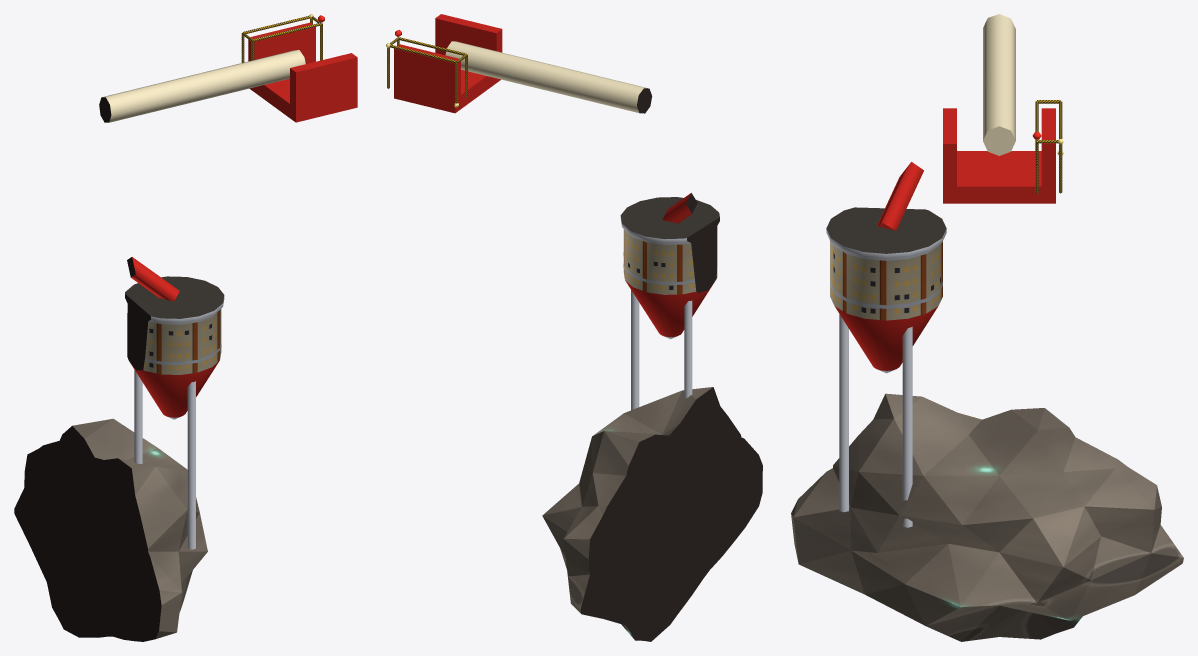
The model's file is mining_facility_build3_debris2.obj.
3 views of the same model, side by side, from view 1: azimuth 30°, elevation 25°; view 2: azimuth 150°, elevation 25°; view 3: azimuth 270°, elevation 25° (orthographic). The views are drawn at different scales.
Visible parts, largest first — view 1: rock, hopper, dock_arm, cradle_side, leg, cradle, conveyor, girder; view 2: rock, hopper, dock_arm, cradle_side, leg, cradle, girder, conveyor; view 3: rock, hopper, cradle, dock_arm, leg, cradle_side, conveyor, girder.
Part boxes in pixels (left/top/right/bottom): rock: left=14, top=418, right=207, bottom=641; hopper: left=125, top=276, right=224, bottom=419; dock_arm: left=99, top=50, right=305, bottom=122; cradle_side: left=248, top=22, right=357, bottom=108; leg: left=134, top=370, right=195, bottom=549; cradle: left=249, top=78, right=357, bottom=122; conveyor: left=127, top=257, right=179, bottom=301; girder: left=241, top=15, right=322, bottom=62; rock: left=542, top=387, right=762, bottom=641; hopper: left=620, top=197, right=719, bottom=339; dock_arm: left=445, top=41, right=652, bottom=113; cradle_side: left=394, top=14, right=502, bottom=98; leg: left=631, top=290, right=692, bottom=410; cradle: left=394, top=70, right=500, bottom=113; girder: left=387, top=37, right=467, bottom=103; conveyor: left=662, top=193, right=697, bottom=223; rock: left=791, top=393, right=1183, bottom=641; hopper: left=826, top=207, right=946, bottom=373; cradle: left=943, top=151, right=1055, bottom=203; dock_arm: left=983, top=14, right=1015, bottom=155; leg: left=839, top=314, right=912, bottom=527; cradle_side: left=943, top=108, right=1055, bottom=186; conveyor: left=877, top=162, right=923, bottom=230; girder: left=1035, top=100, right=1062, bottom=193.
Bounding box in the file's own units: 77.89 × 154 × 83.53.
10 materials, 3 textured.
